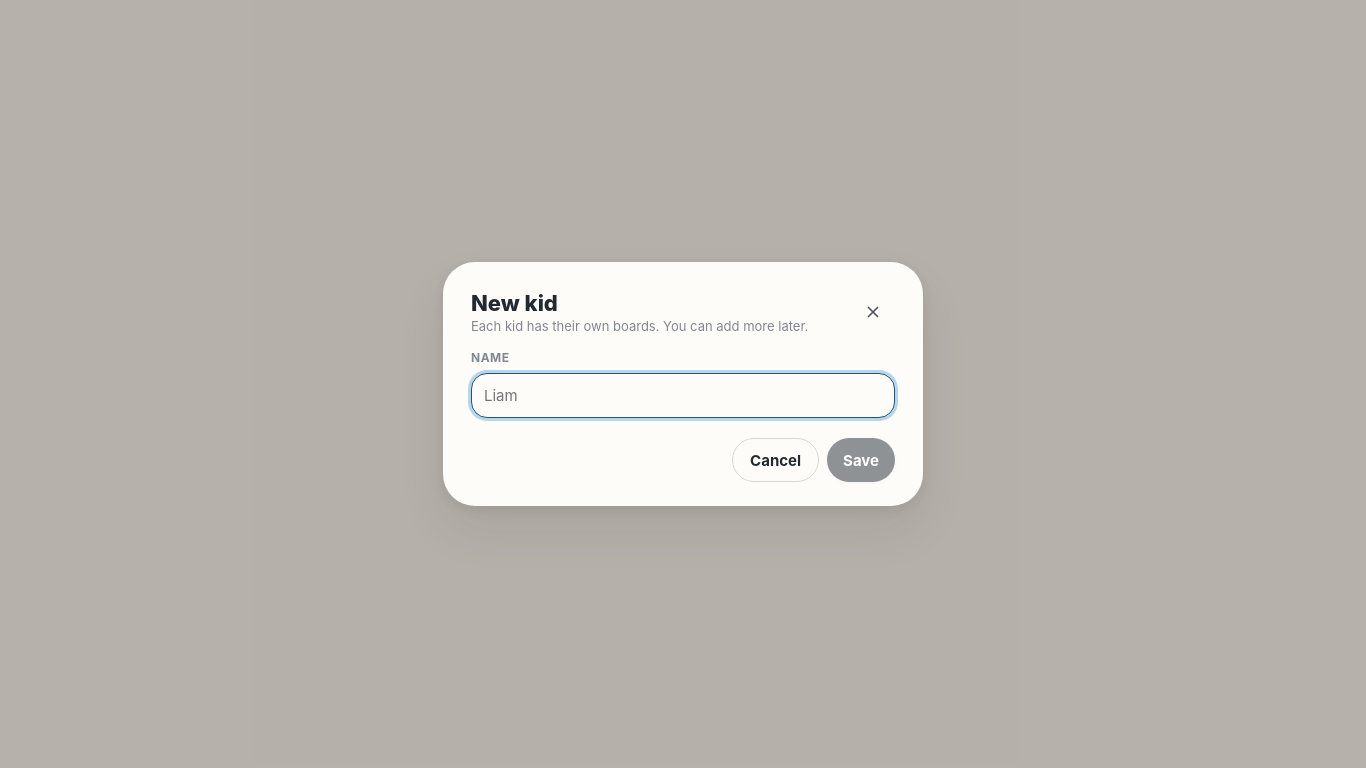
Scenario: NewKidModal › renders an inline error when the mutation fails
Type "Mira" into the field labelled "Name". click: (683, 396)
box: [471,373,895,418]
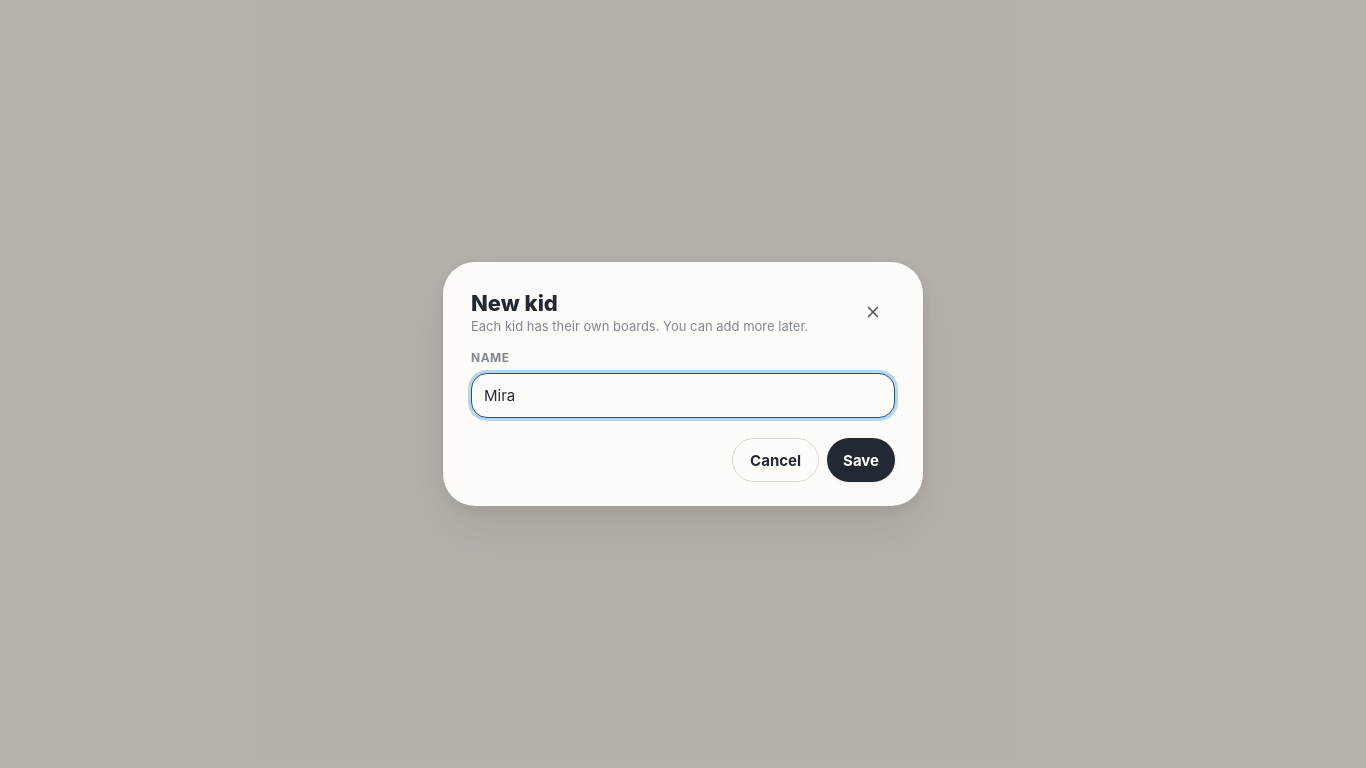
Click the button "Save". click: (861, 460)
box: [827,438,895,482]
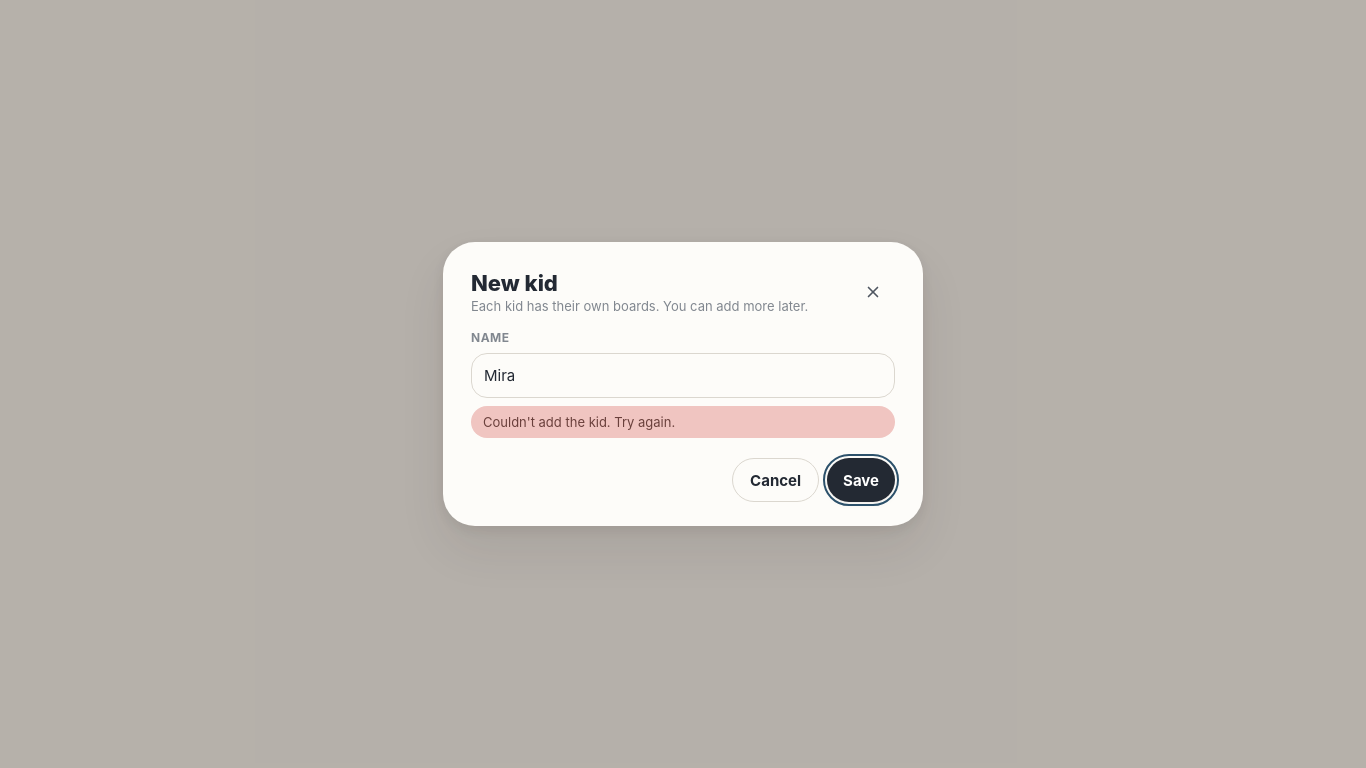
Now the message reads "Couldn't add the kid. Try again.", box [483,414,675,430]
